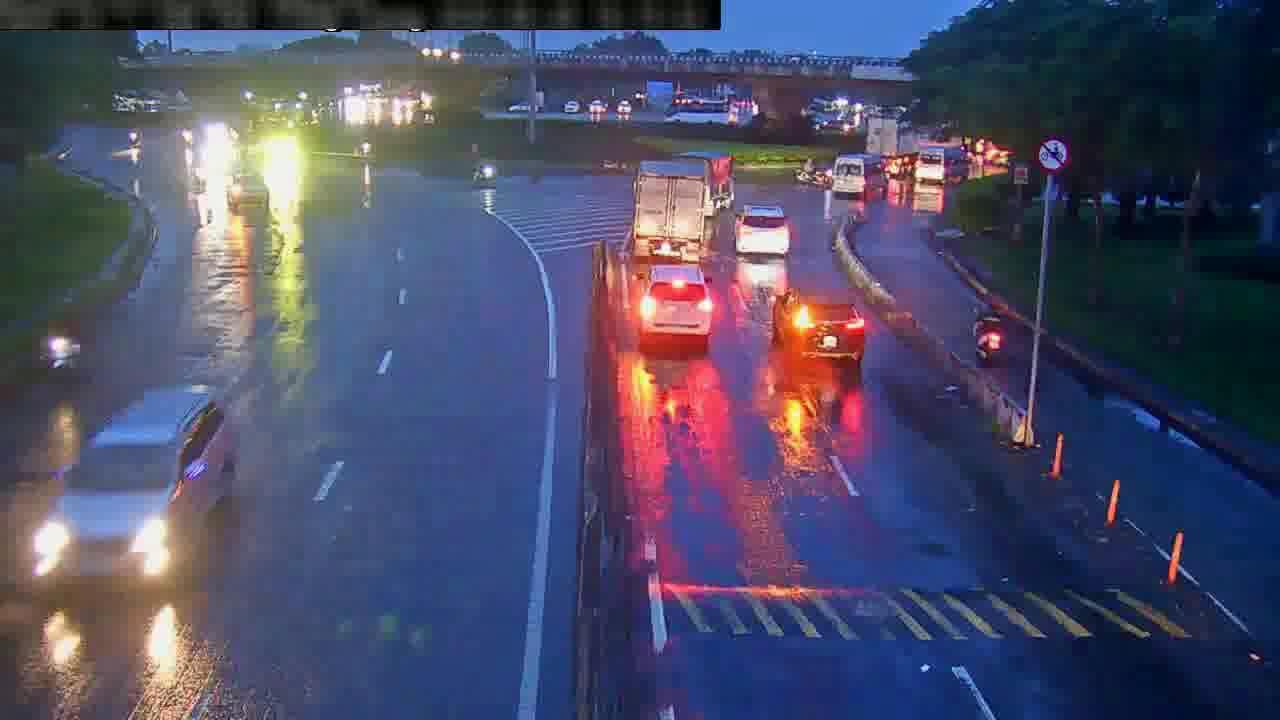14: (833, 151, 893, 199), (917, 144, 973, 185)
8: (631, 154, 711, 257)
container: (34, 377, 243, 589), (765, 284, 868, 373), (636, 255, 717, 353), (731, 202, 791, 258)
motorbike: (970, 293, 1007, 369)
